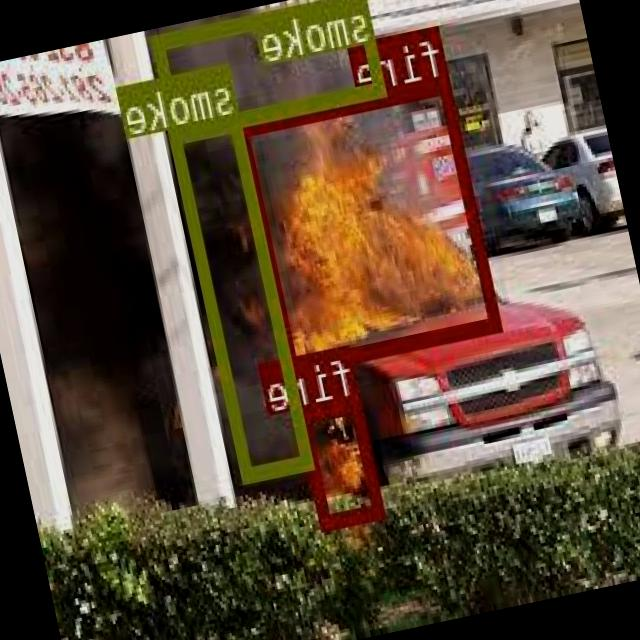fire: (238, 75, 504, 372), (298, 396, 386, 526)
smoke: (170, 113, 316, 480), (153, 0, 387, 136)
